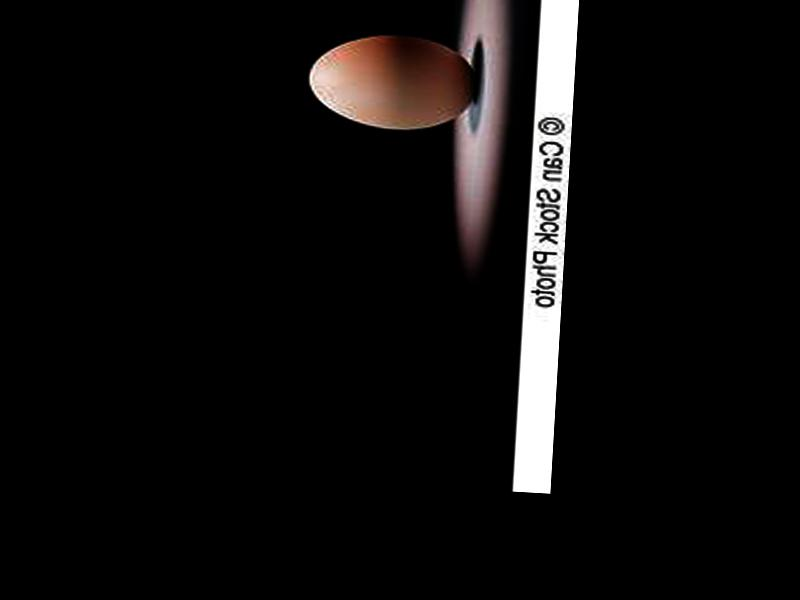Eggs: (307, 27, 480, 134)
